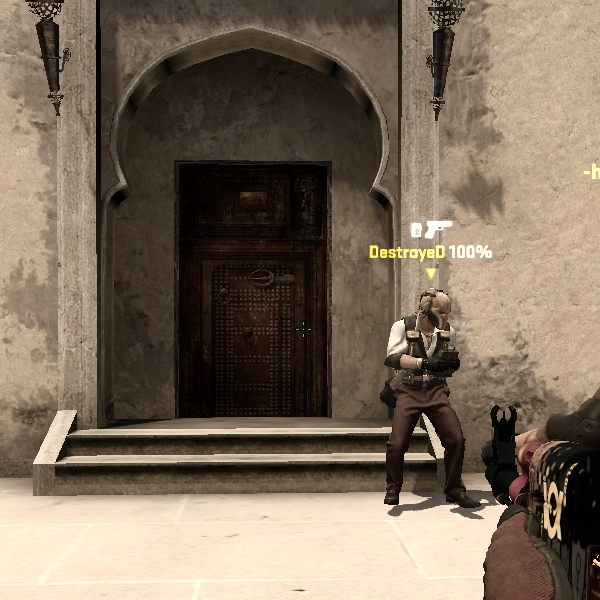t_body: (359, 286, 491, 515)
t_head: (407, 283, 463, 345)
